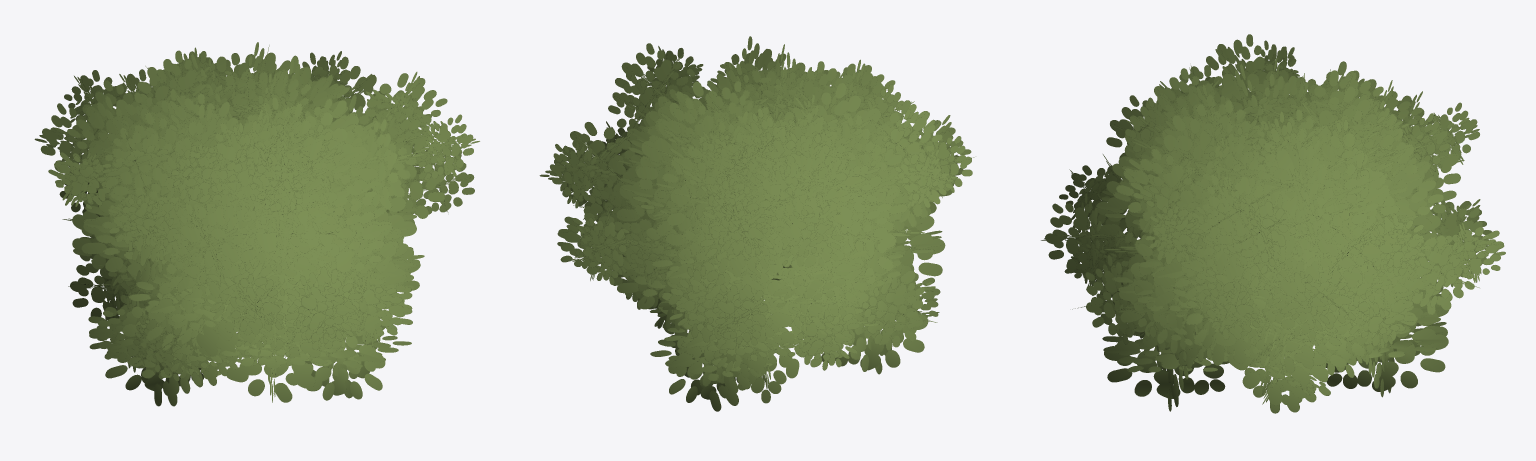
The model's file is bush.glb.
3 renders of one model, left to right at view 1: azimuth 30°, elevation 25°; view 2: azimuth 150°, elevation 25°; view 3: azimuth 270°, elevation 25°, orthographic. The views are drawn at different scales.
Parts seen in each view (by area): view 1: Bush_Common; view 2: Bush_Common; view 3: Bush_Common.
Boxes of the visible parts, bbox=[...] form: Bush_Common: bbox=[34, 42, 479, 406]; Bush_Common: bbox=[539, 36, 974, 411]; Bush_Common: bbox=[1041, 34, 1505, 413].
Bounding box in the file's own units: 1.91 × 1.58 × 1.97.
Materials: 1 (1 with a texture image).
